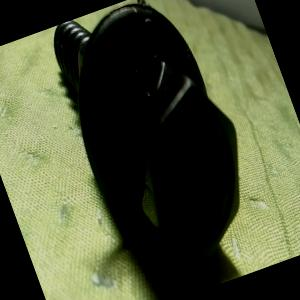parafuso: (41, 0, 276, 286)
